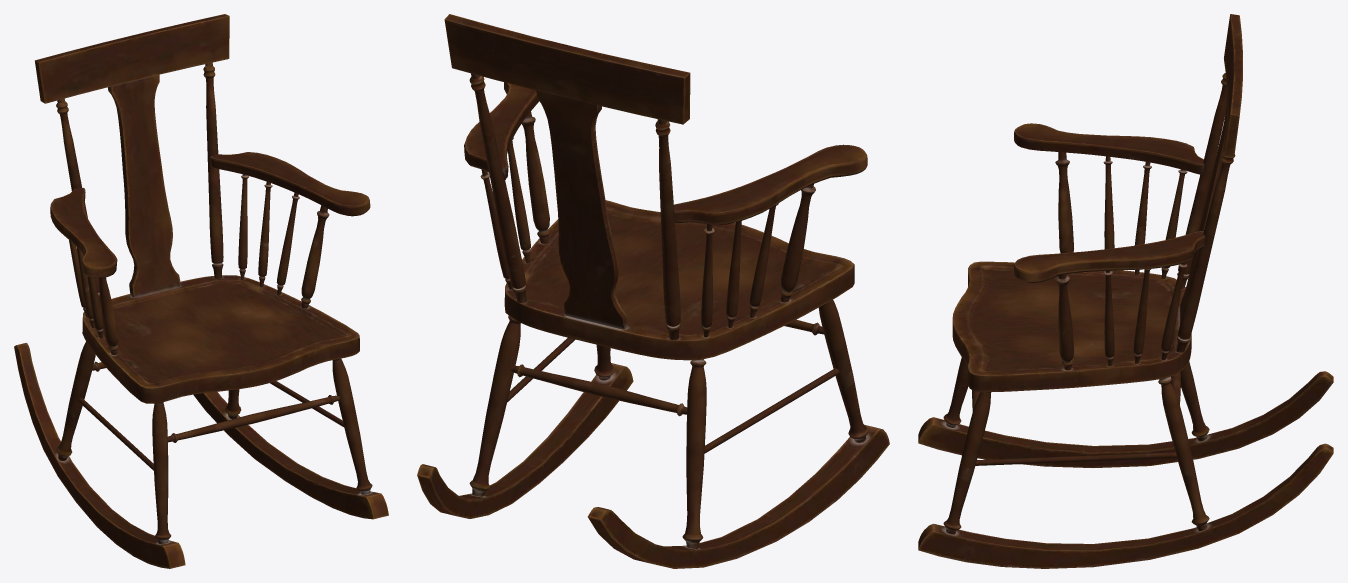
File: Rockingchair_01.glb
3 renders of one model, left to right at view 1: azimuth 30°, elevation 25°; view 2: azimuth 150°, elevation 25°; view 3: azimuth 270°, elevation 25°, orthographic. The views are drawn at different scales.
Parts seen in each view (by area): view 1: Rockingchair_01; view 2: Rockingchair_01; view 3: Rockingchair_01.
Boxes of the visible parts, x1,y1,x2,y2 form: Rockingchair_01: [14, 14, 388, 568]; Rockingchair_01: [417, 14, 889, 568]; Rockingchair_01: [918, 14, 1333, 568].
Size of the model in its own units: 0.7081 by 0.9949 by 0.8335.
1 material, 1 textured.
